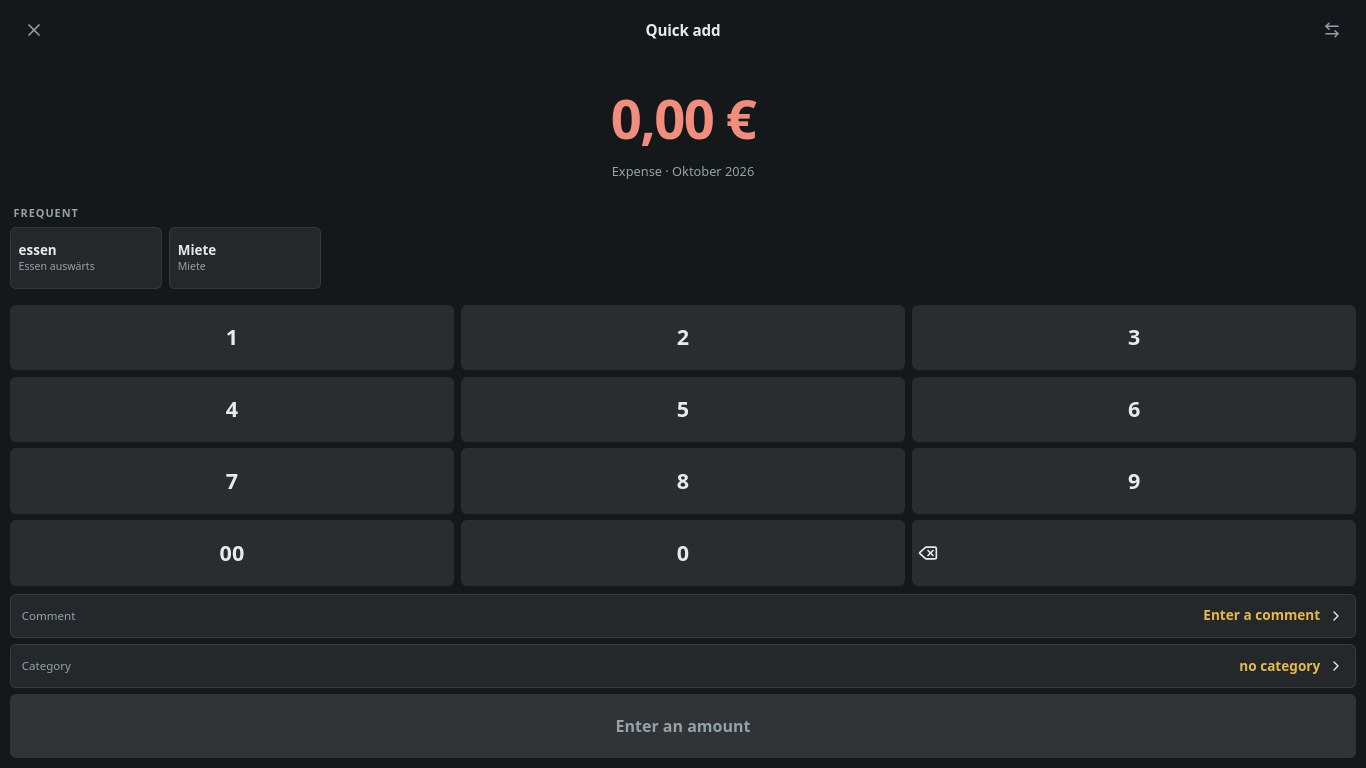
Test: Quick Add › turns the unsaveable bar into the way to fix it
This screenshot has width=1366, height=768.
Expected: the text "essen" is shown, x1=19 y1=243 x2=57 y2=259
Expected: the button "Enter an amount" is shown, x1=10 y1=694 x2=1356 y2=758
Click the button "5": (683, 409) x1=461 y1=376 x2=905 y2=442
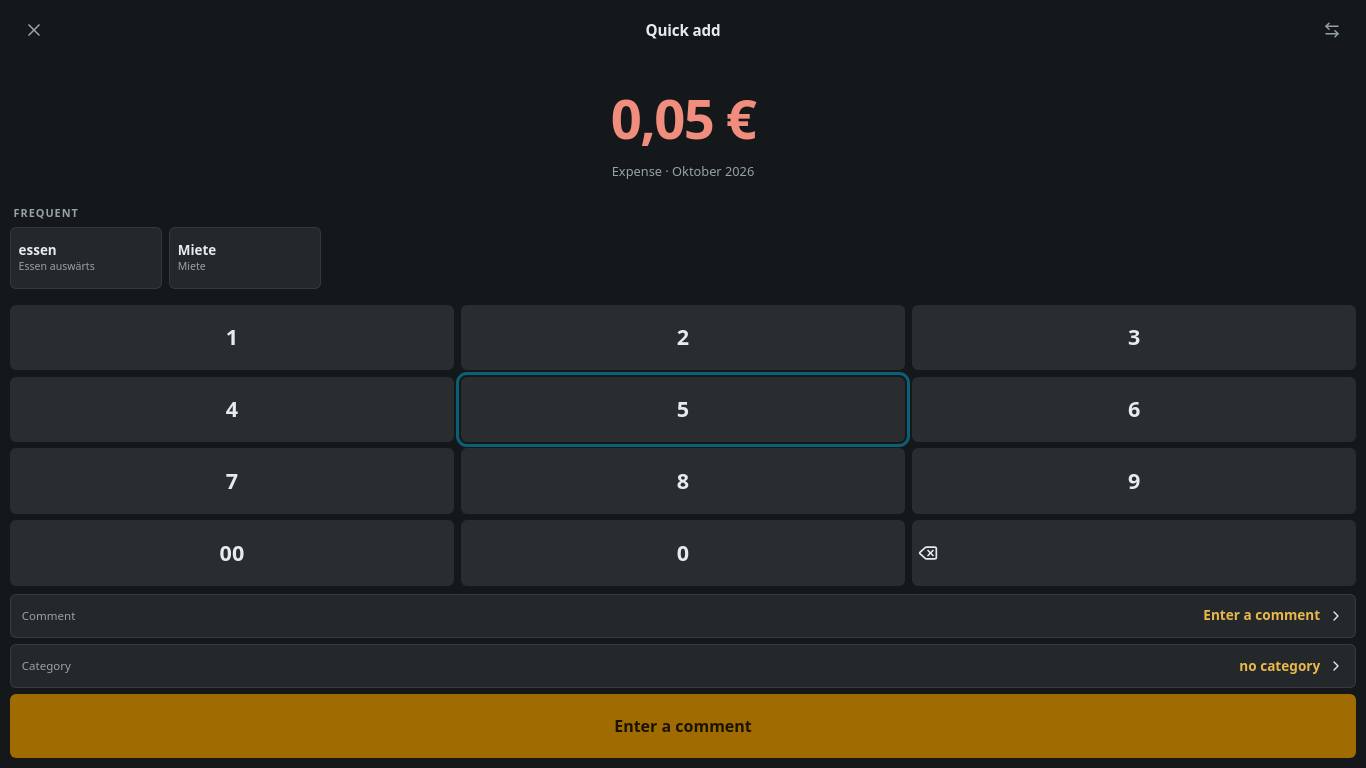
Click the button "00": (232, 553) x1=10 y1=520 x2=454 y2=586
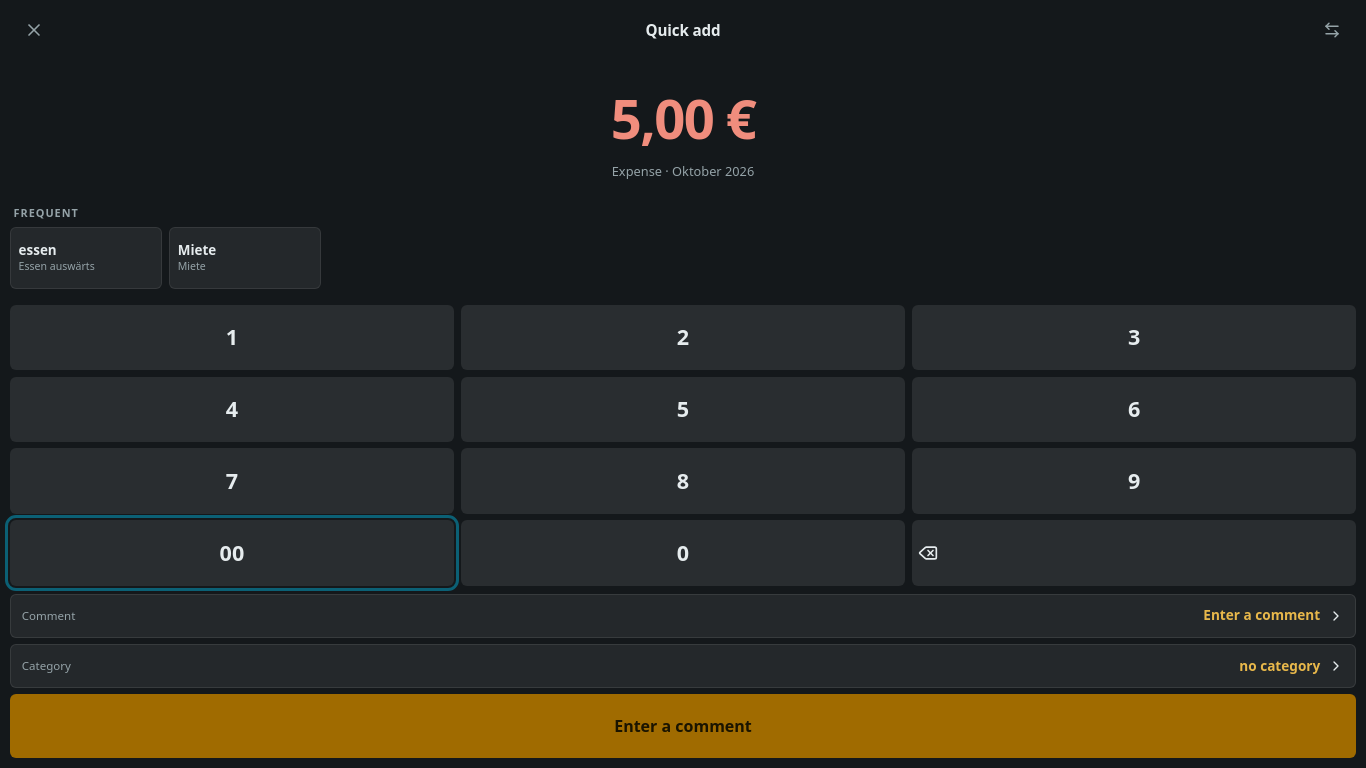
Result: the button "Enter a comment" is shown
Result: the button "Enter a comment" is enabled
Click the button "Enter a comment": (683, 726) x1=10 y1=694 x2=1356 y2=758
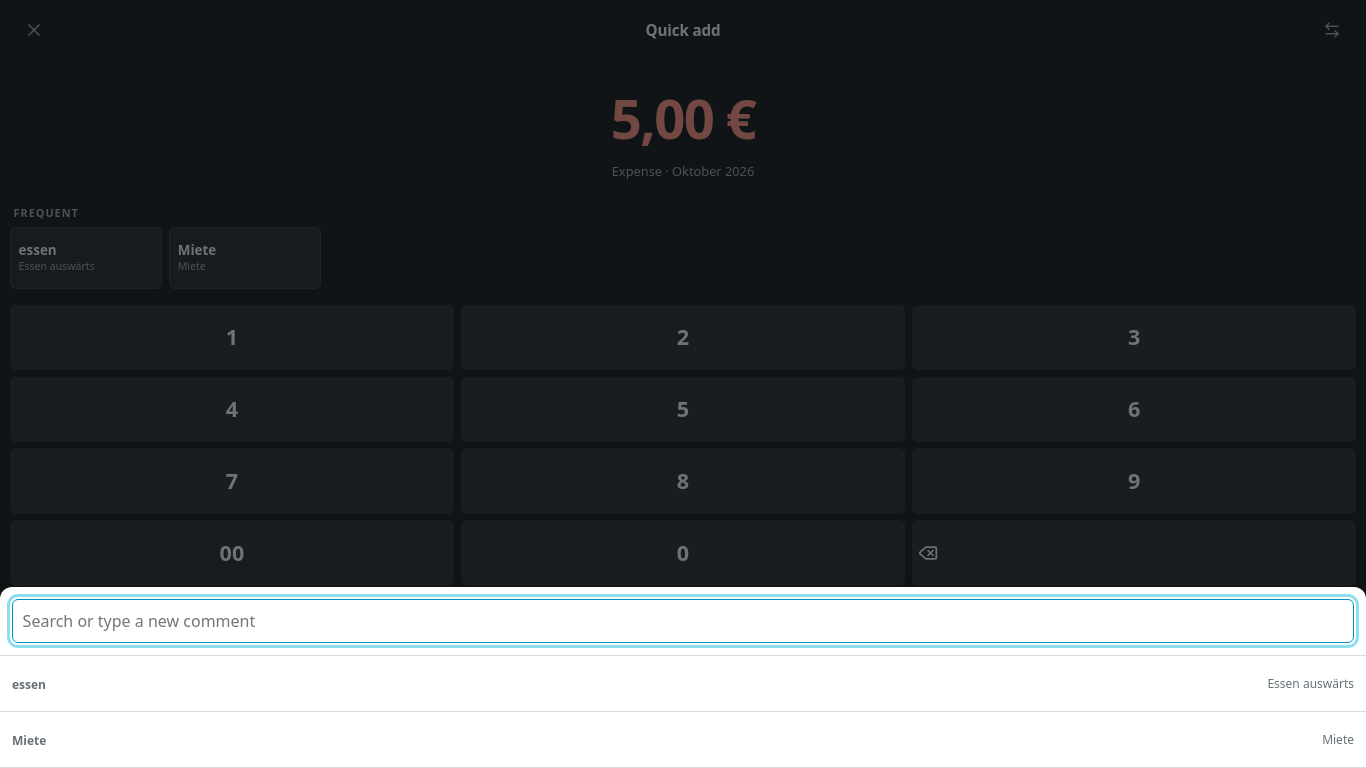
Result: the dialog is shown at x1=0 y1=587 x2=1365 y2=767
